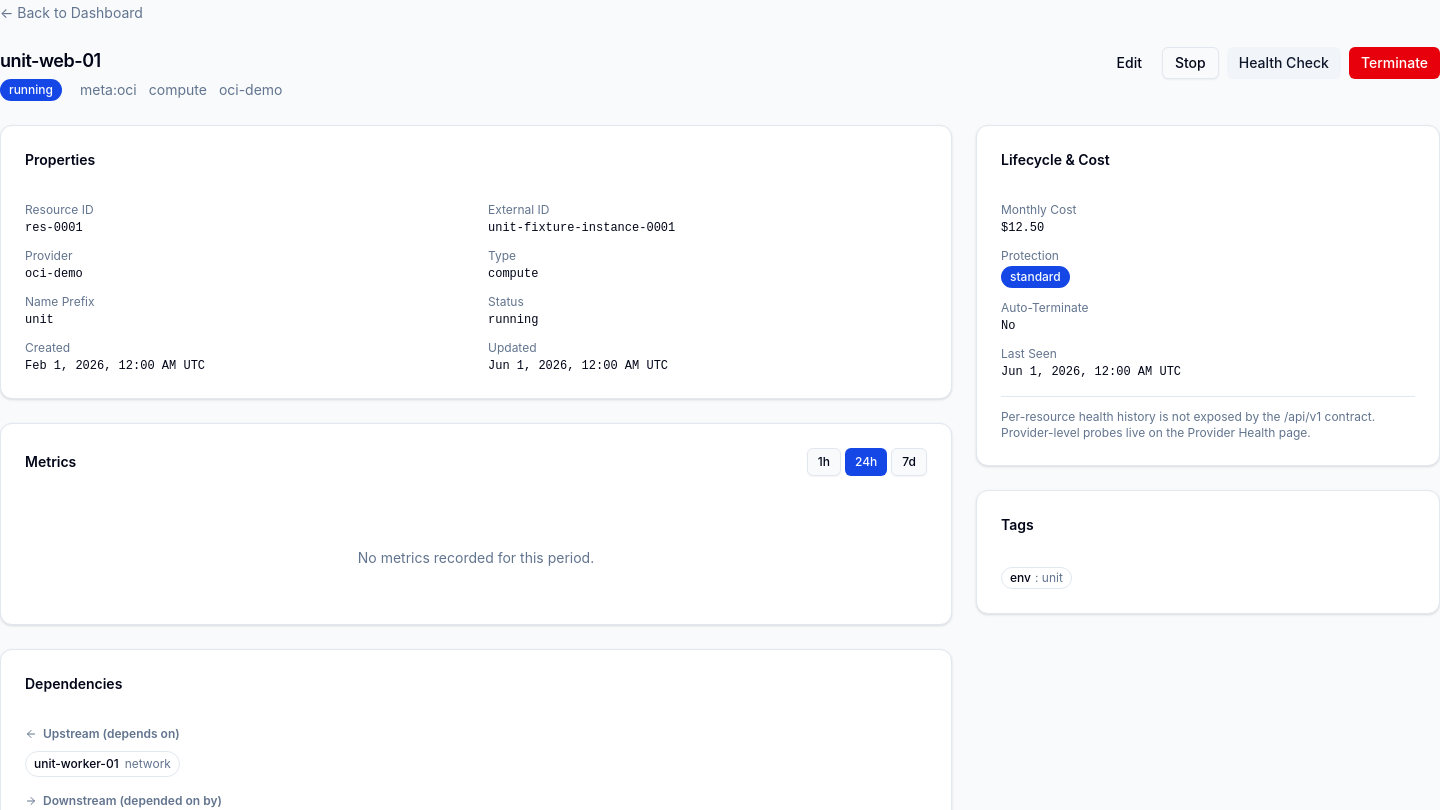
Test case: ResourceDetailPage › opens the operator Edit dialog prefilled from the cached resource
What coordinates should you click on to do the following:
click the button "Edit"
I would click on:
 (1129, 63)
Its box is 1104,47 -> 1154,79.
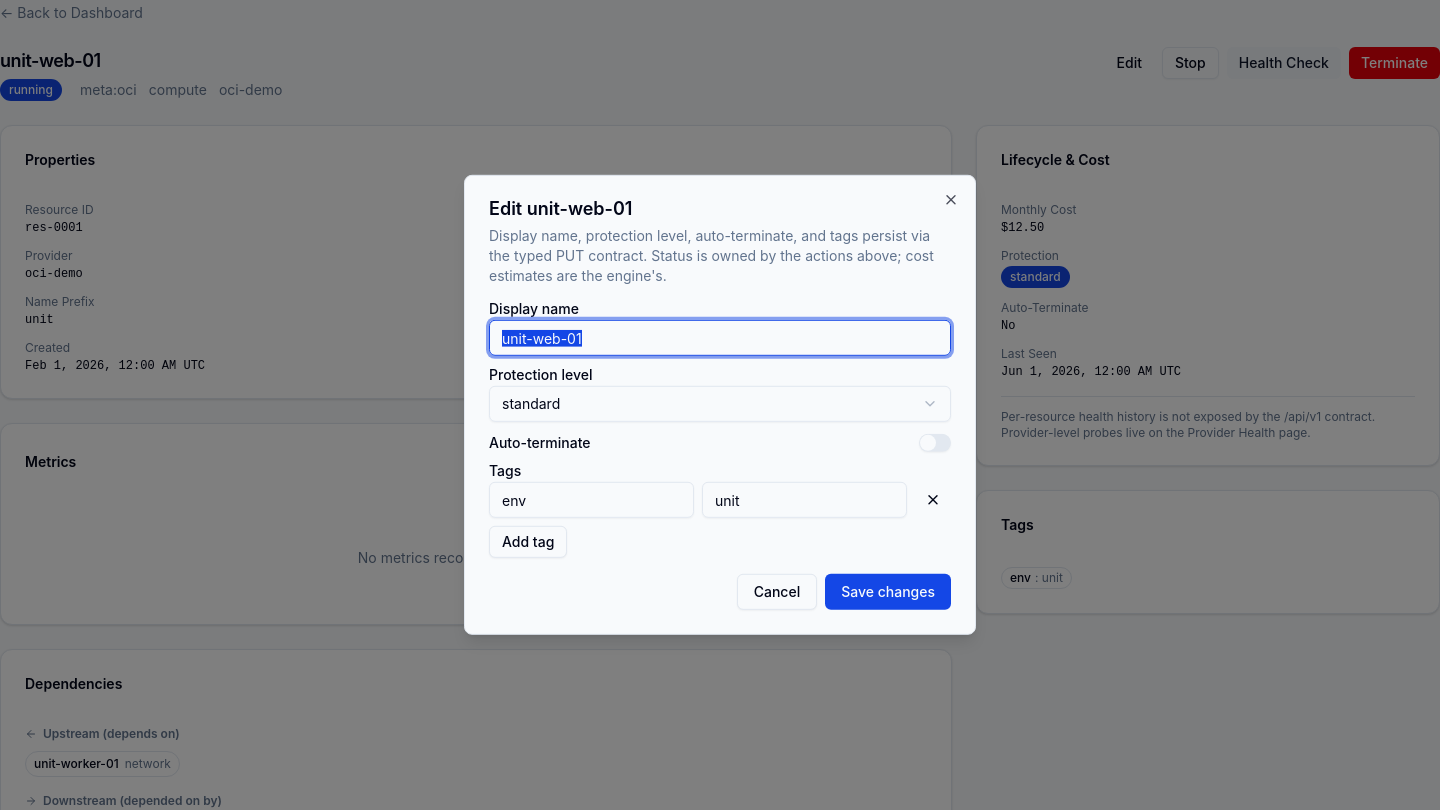
Result: the field labelled "Display name" holds "unit-web-01" at 489,320 -> 951,356
